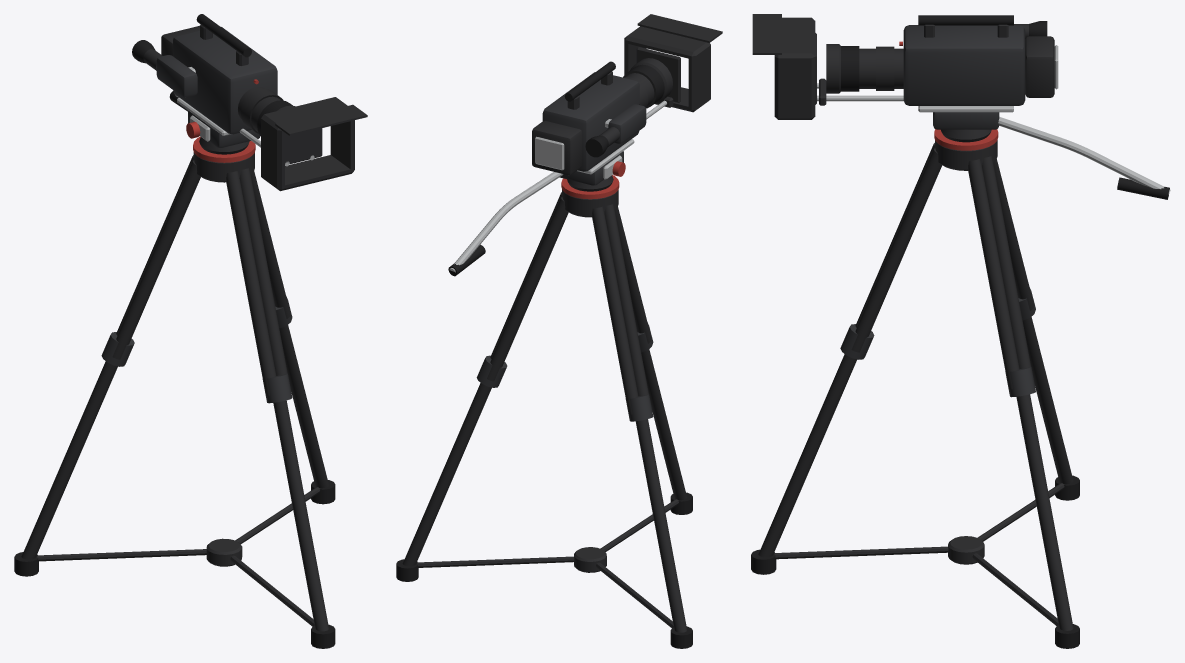
Rendered from CameraTripod.fbx.
3 views of the same model, side by side, from view 1: azimuth 30°, elevation 25°; view 2: azimuth 150°, elevation 25°; view 3: azimuth 270°, elevation 25° (orthographic). The views are drawn at different scales.
Parts seen in each view (by area): view 1: CameraTripod_Mesh; view 2: CameraTripod_Mesh; view 3: CameraTripod_Mesh.
Part boxes in pixels (x1,y1,x2,y2): CameraTripod_Mesh: [14, 14, 367, 648]; CameraTripod_Mesh: [396, 14, 722, 648]; CameraTripod_Mesh: [751, 14, 1170, 648].
Size of the model in its own units: 1.02 by 1.66 by 1.14.
